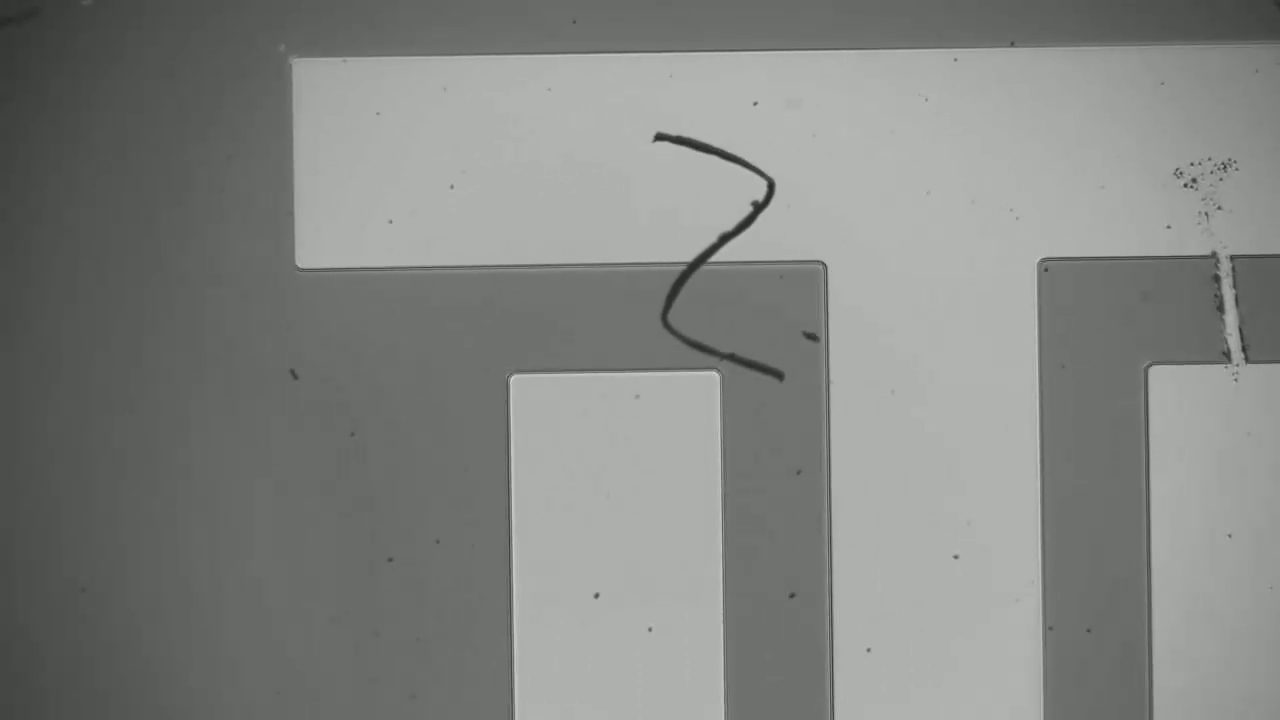Short_circuit: (1193, 226, 1271, 386)
